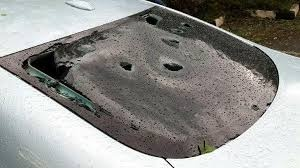Broken-glass: (22, 13, 209, 121)
